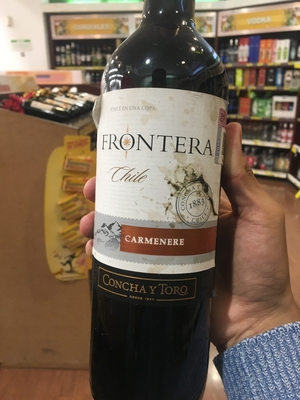frontera carmenere: (84, 18, 232, 400)
